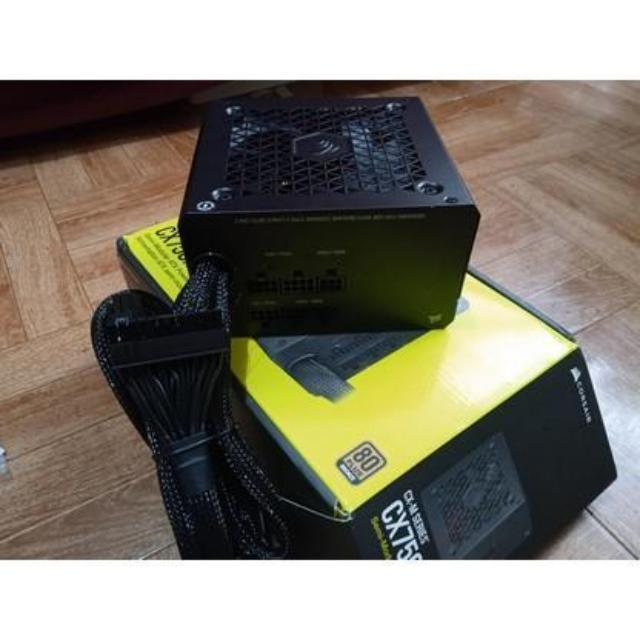PSU: (172, 81, 484, 348)
